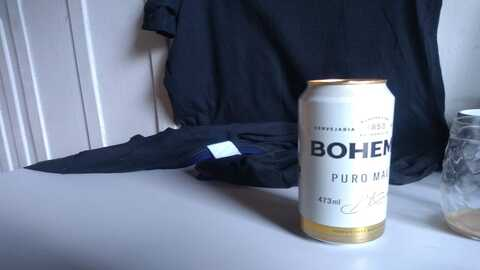bohemia: (293, 79, 403, 242)
